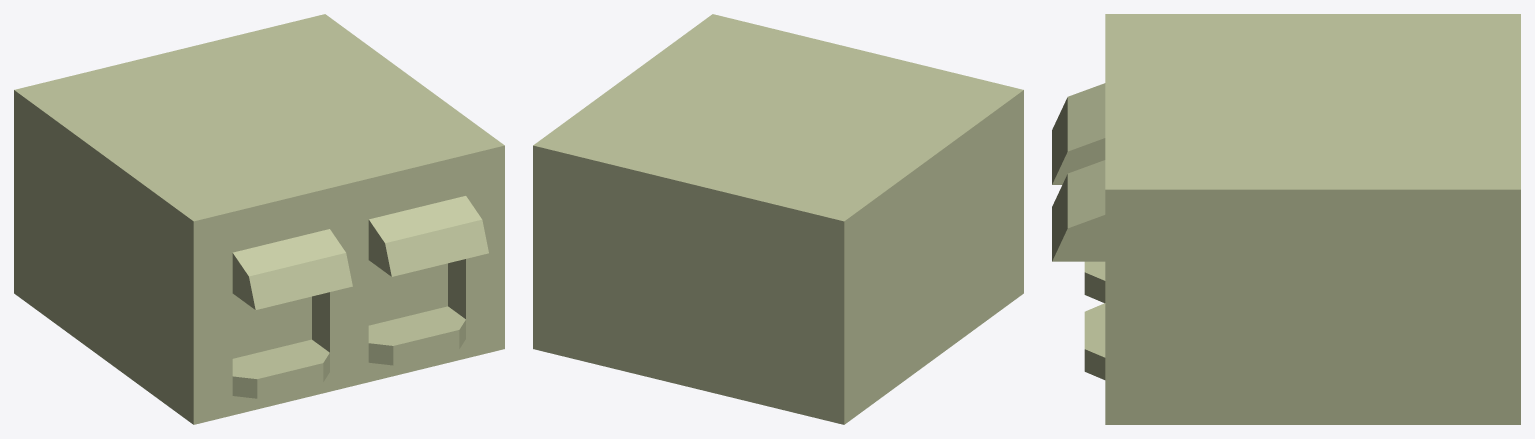
Rendered from building-window-awnings.obj.
3 views of the same model, side by side, from view 1: azimuth 30°, elevation 25°; view 2: azimuth 150°, elevation 25°; view 3: azimuth 270°, elevation 25° (orthographic). The views are drawn at different scales.
Size of the model in its own units: 1 by 0.625 by 1.13.
